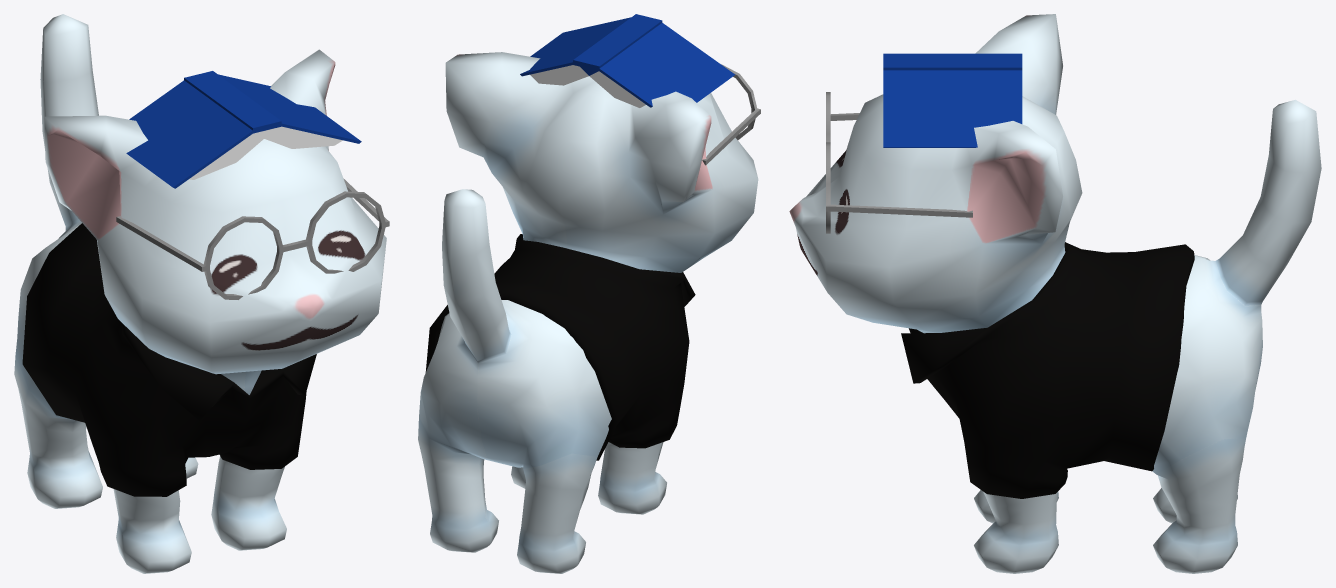
Rendered from Library Cat05.fbx.
The picture shows the model from 3 angles, left to right: view 1: azimuth 30°, elevation 25°; view 2: azimuth 150°, elevation 25°; view 3: azimuth 270°, elevation 25°; orthographic projection. The views are drawn at different scales.
Parts seen in each view (by area): view 1: Cat_Base004, Library_Cat_Shirt, Library_Cat_BookHat, Library_Cat_Glasses; view 2: Cat_Base004, Library_Cat_Shirt, Library_Cat_BookHat, Library_Cat_Glasses; view 3: Cat_Base004, Library_Cat_Shirt, Library_Cat_BookHat, Library_Cat_Glasses.
Boxes of the visible parts, x1,y1,x2,y2 form: Cat_Base004: [14, 14, 386, 573]; Library_Cat_Shirt: [22, 223, 316, 496]; Library_Cat_BookHat: [126, 71, 361, 188]; Library_Cat_Glasses: [116, 178, 389, 299]; Cat_Base004: [418, 52, 758, 573]; Library_Cat_Shirt: [425, 234, 695, 460]; Library_Cat_BookHat: [520, 14, 735, 107]; Library_Cat_Glasses: [702, 64, 760, 165]; Cat_Base004: [789, 14, 1321, 573]; Library_Cat_Shirt: [901, 242, 1194, 498]; Library_Cat_BookHat: [883, 53, 1022, 147]; Library_Cat_Glasses: [826, 92, 972, 233].
Size of the model in its own units: 1.75 by 2.83 by 2.81.
5 materials, 1 textured.
